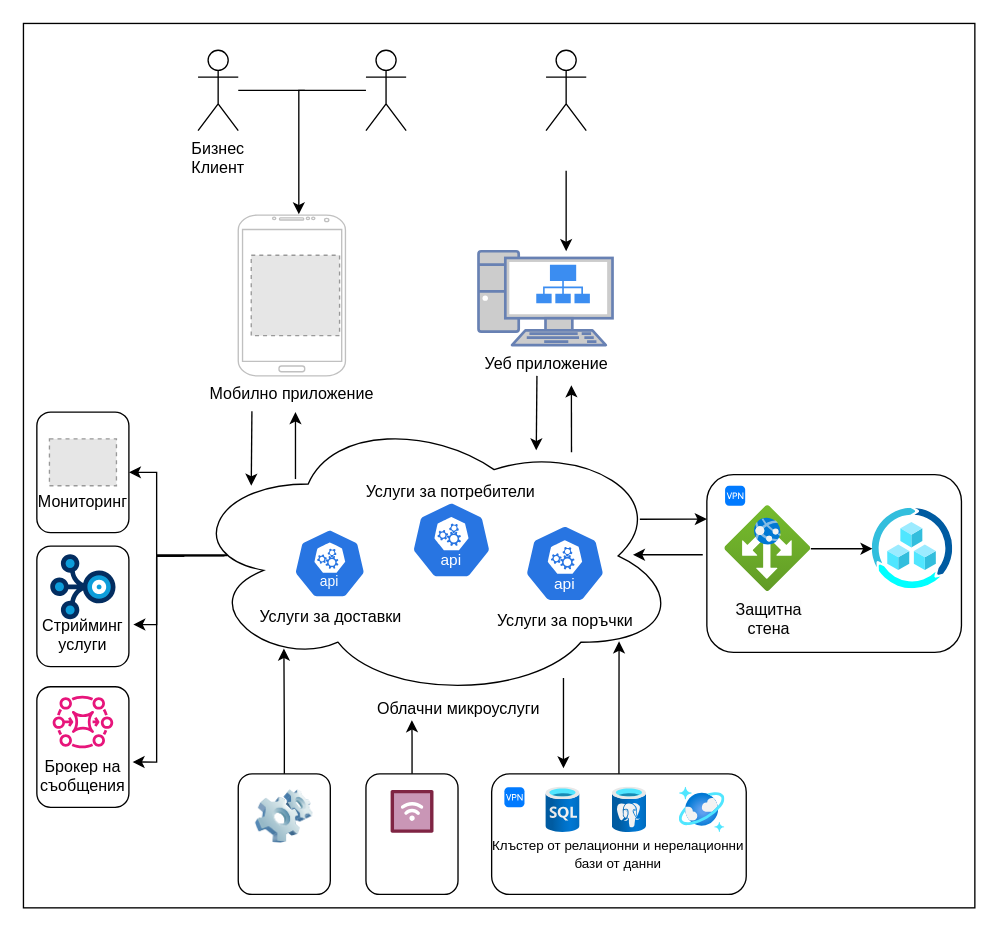
Image size: 998x934. Some labels were removed from this diagram. Grey dashed boxes stand in for pictures. Each missing label, with the centre of its shape:
"Външни системи" belongs at (284,816).
"Вътрешни системи" belongs at (912,548).
"Диспечер" belongs at (565,90).
"Доставчик" belongs at (385,90).
"Интернет на нещата" belongs at (411,811).
